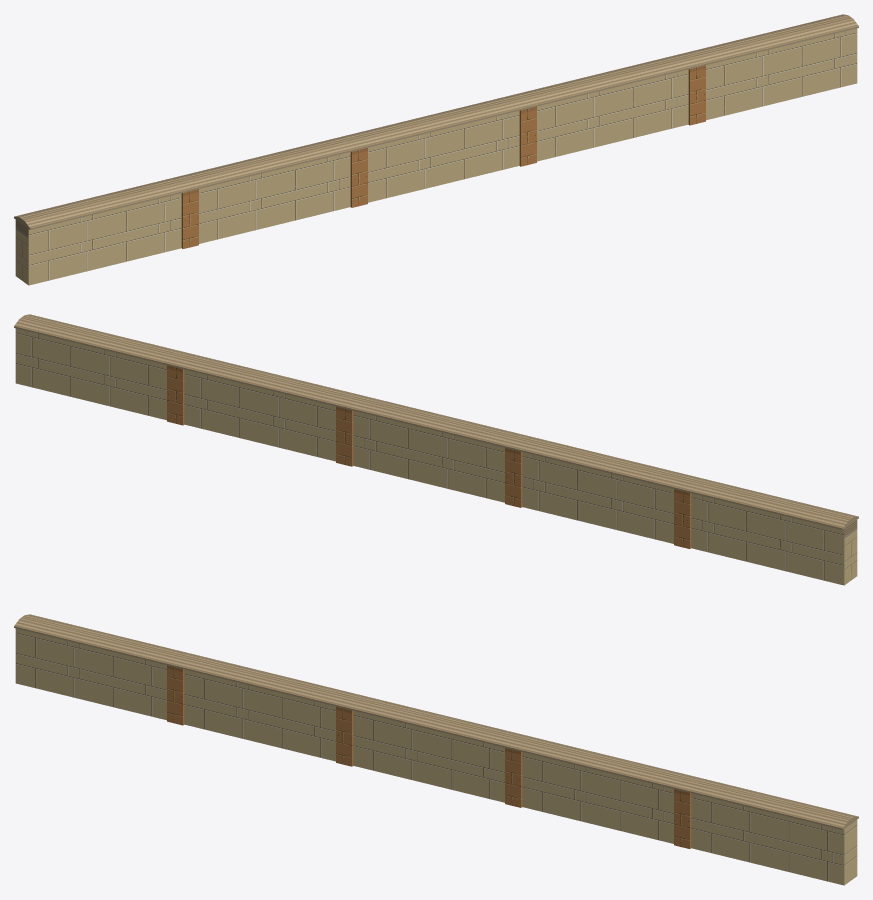
File: EgyptGapWall.fbx
3 renders of one model, top to bottom at view 1: azimuth 30°, elevation 25°; view 2: azimuth 150°, elevation 25°; view 3: azimuth 330°, elevation 25°, orthographic.
Visible parts, largest first — view 1: Gap Wall; view 2: Gap Wall; view 3: Gap Wall.
Boxes of the visible parts, bbox=[...] form: Gap Wall: bbox=[14, 14, 858, 285]; Gap Wall: bbox=[14, 314, 858, 585]; Gap Wall: bbox=[14, 614, 858, 885].
Size of the model in its own units: 1284 by 91.07 by 43.52.
